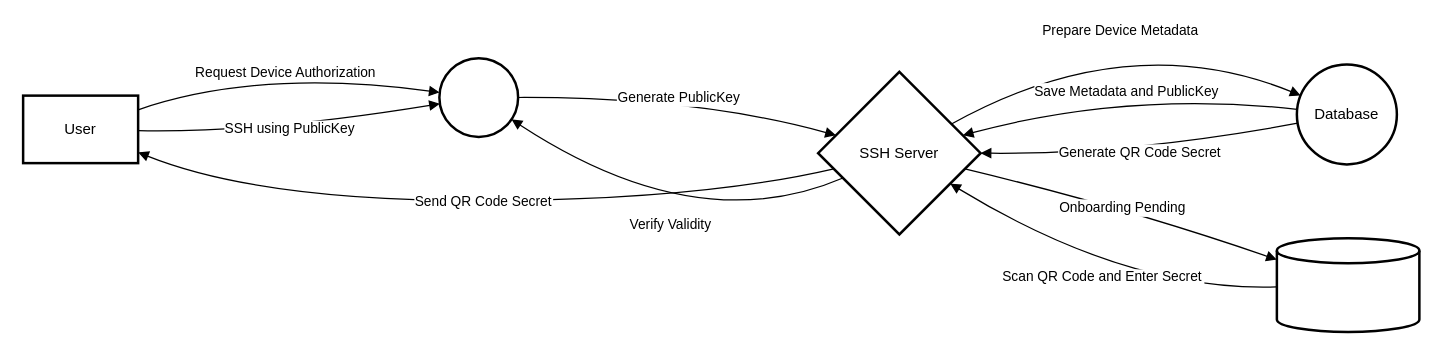
Image size: 1441x354. Some labels were removed from this diagram. Here are the shapes that lost their labels. From the top down, the box of each, then its label:
(438, 56, 519, 138): Device
(1275, 236, 1420, 332): Device Owner
